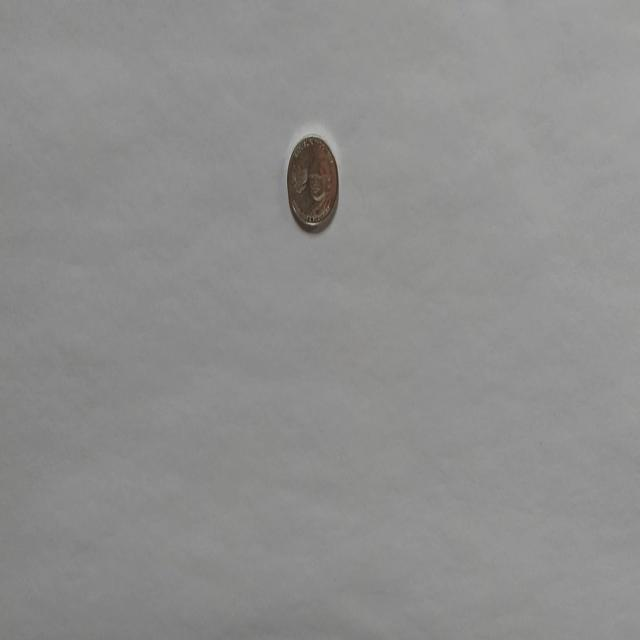lima ratus rupiah: (286, 132, 339, 233)
